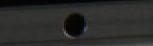holes: (62, 12, 88, 39), (0, 0, 65, 9)
